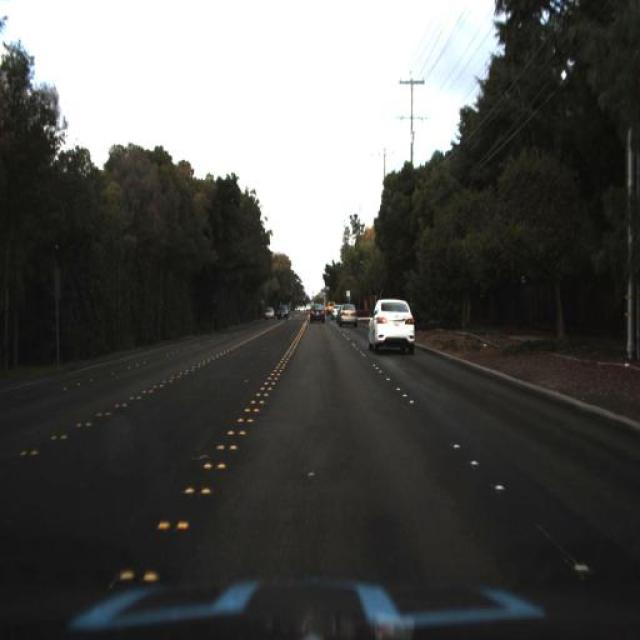car: (364, 297, 424, 362), (337, 300, 358, 334), (308, 302, 327, 326), (262, 302, 279, 322), (276, 302, 290, 323)
